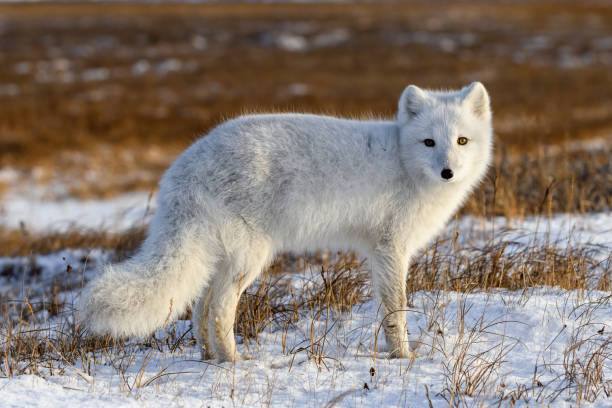arcticfox: (402, 100, 484, 198)
